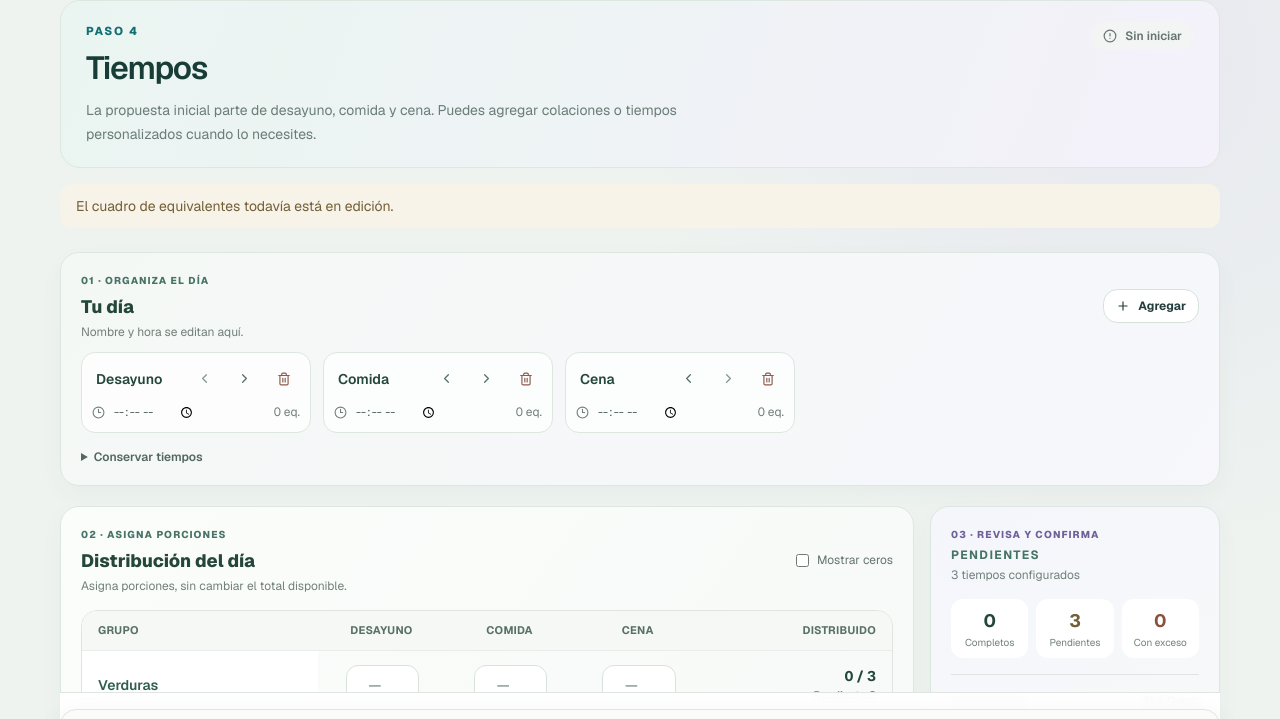
Test: DietMealDistributionStep › adds, renames, schedules and removes an empty meal time inline
Click the button with aria-label "Agregar tiempo" at (1151, 306), box [1103, 289, 1199, 323]
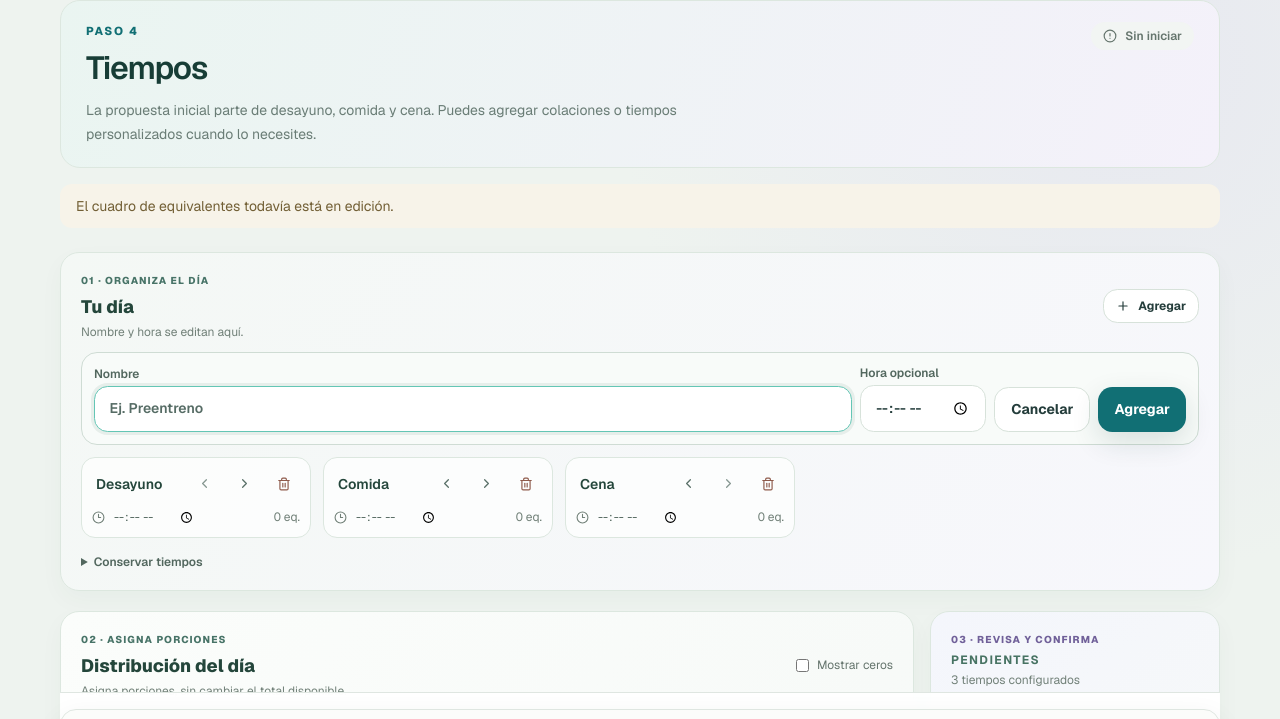
Type "Preentreno" into the field named "Nombre del nuevo tiempo" at (473, 409), box [94, 386, 852, 432]
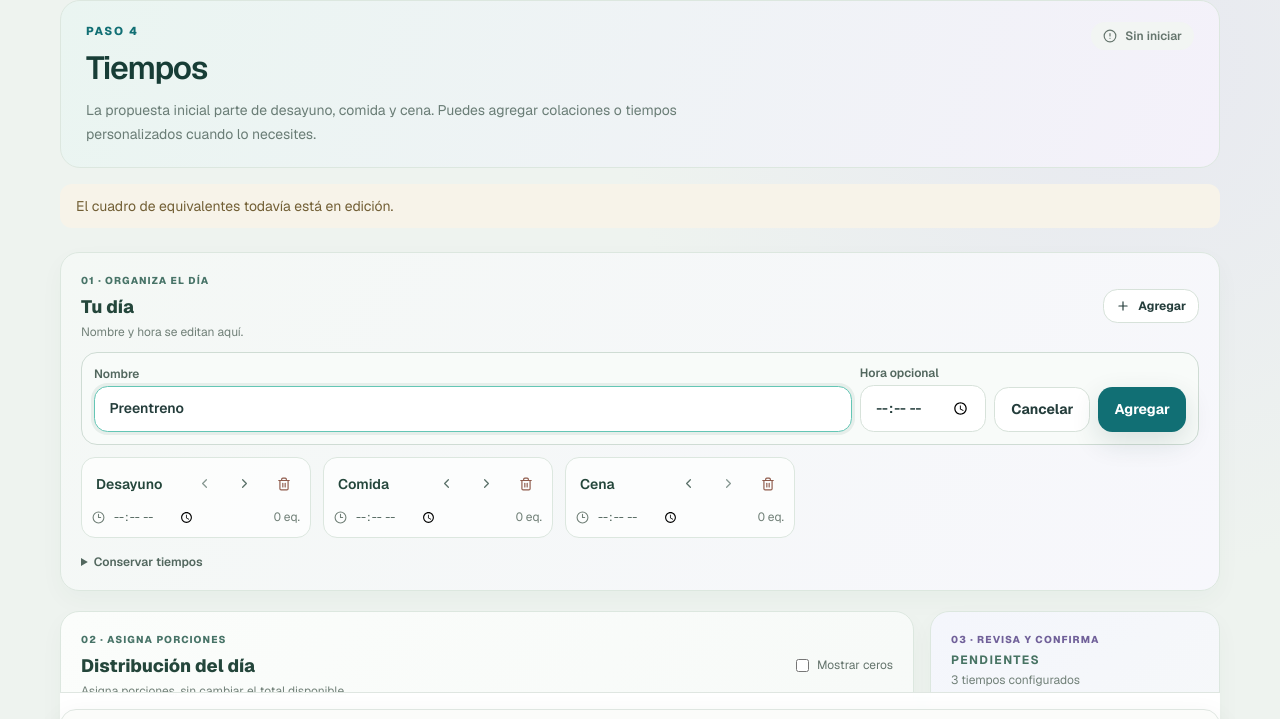
Type "17:30" into the time field named "Hora del nuevo tiempo" at (923, 408), box [860, 385, 986, 432]
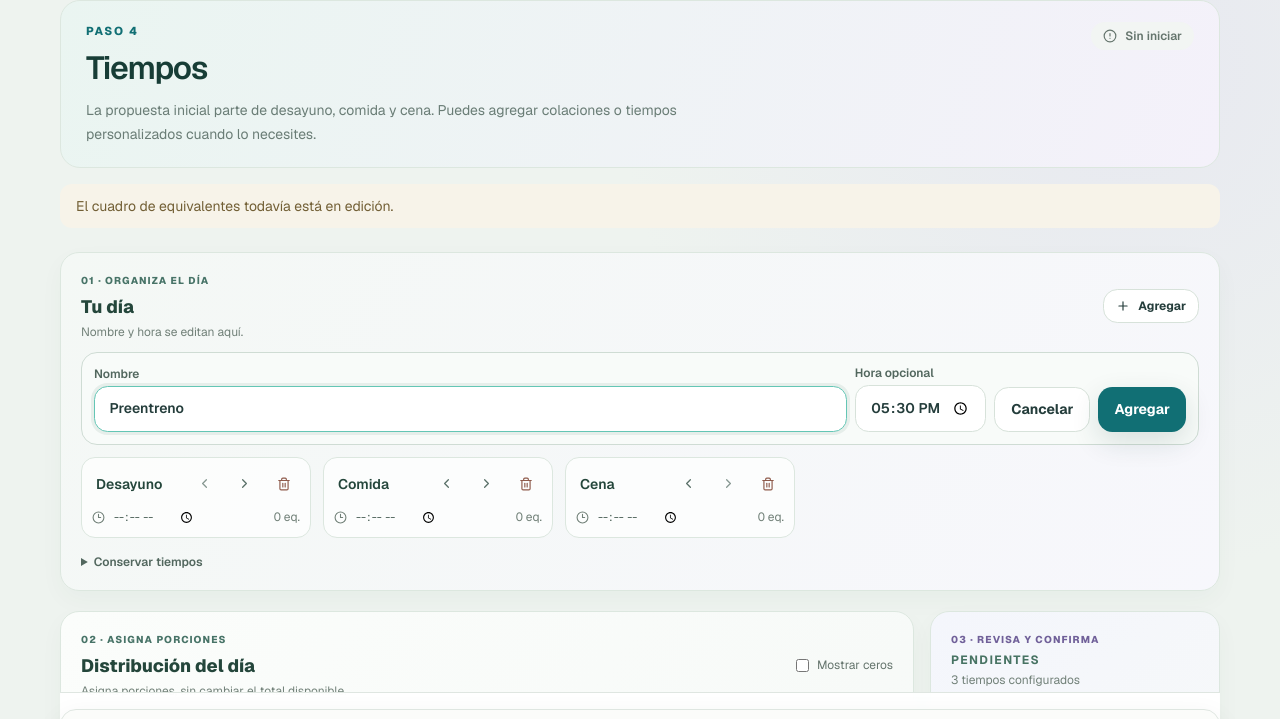
Click the button "Agregar" below "Hora opcional" at (1142, 409), box [1098, 386, 1186, 432]
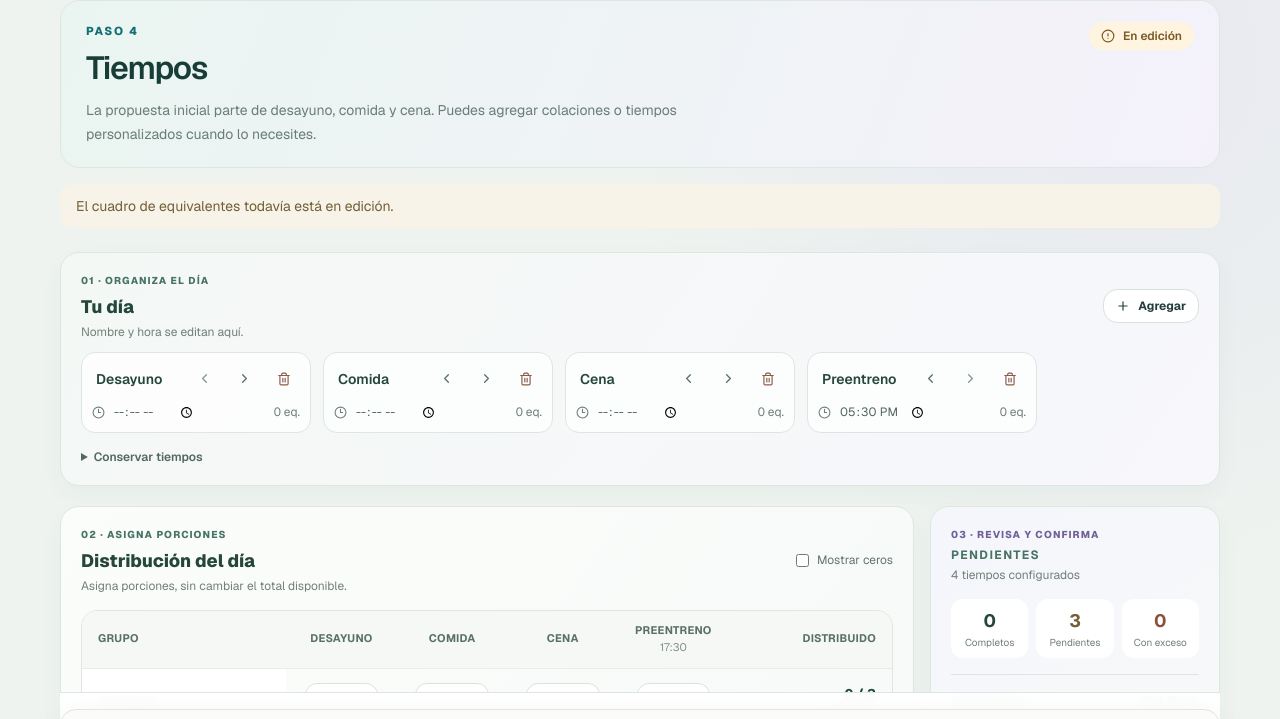
Check: the field showing "Preentreno" is shown
Check: the 4th time field showing "17:30" is shown, box [839, 403, 927, 422]
Replace the text in the field named "Nombre de Preentreno" with "Postentreno" at (862, 379), box [818, 365, 906, 393]
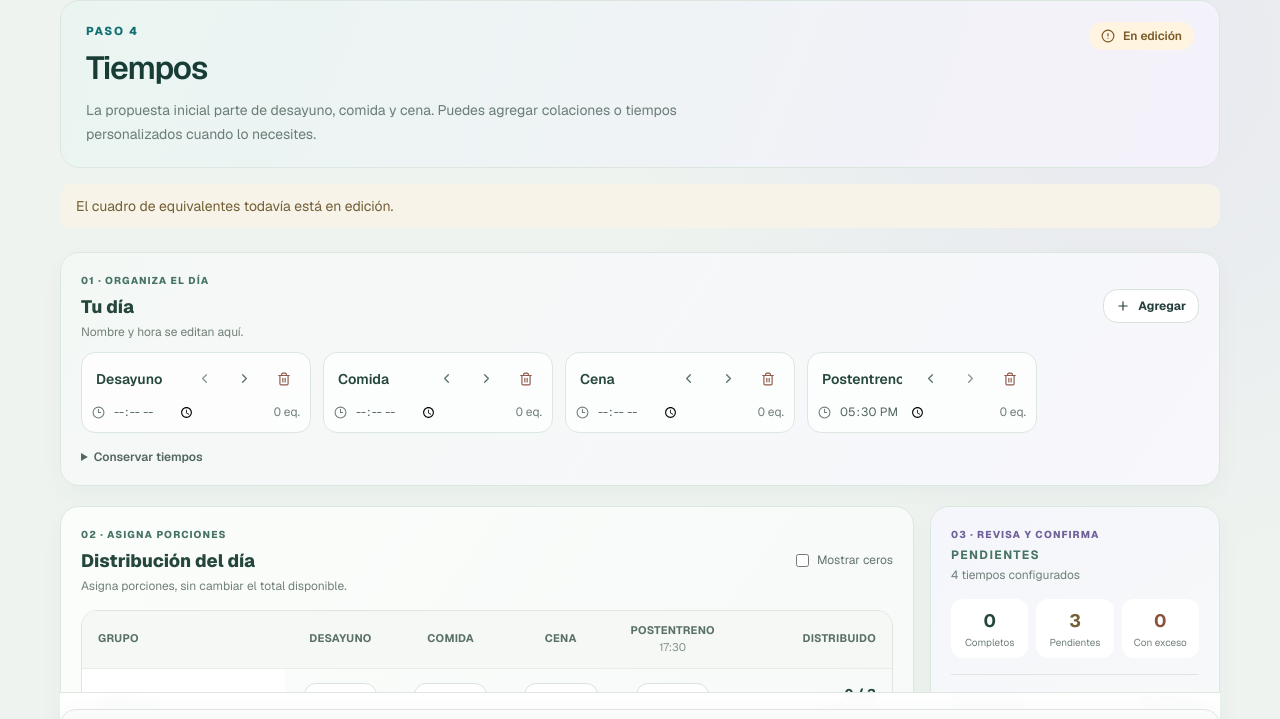
Click the button named "Eliminar Postentreno" at (1010, 379), box [994, 363, 1026, 395]
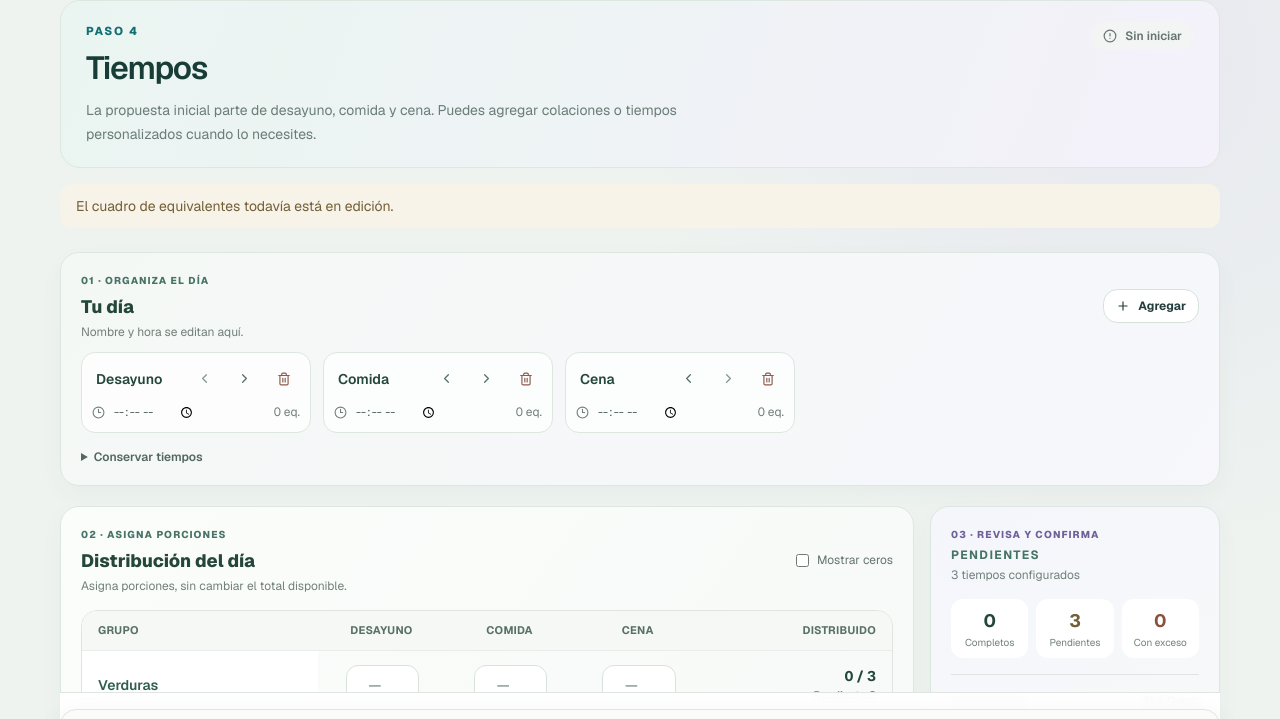
Check: the text showing "Postentreno" is gone
